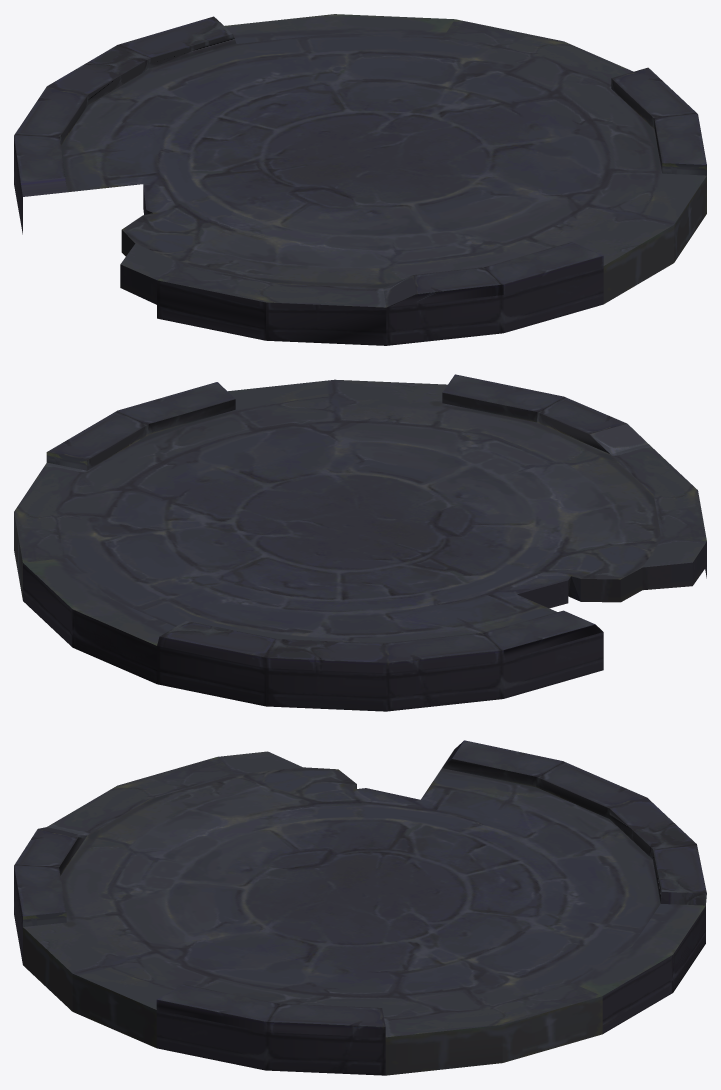
File: yw_ziyuanpingtai_yuantai_002.FBX
3 views of the same model, one above another, from view 1: azimuth 30°, elevation 25°; view 2: azimuth 150°, elevation 25°; view 3: azimuth 270°, elevation 25° (orthographic).
Visible parts, largest first — view 1: yw_ziyuanpingtai_yuantai_002; view 2: yw_ziyuanpingtai_yuantai_002; view 3: yw_ziyuanpingtai_yuantai_002.
Boxes of the visible parts, left/top/right/bottom form: yw_ziyuanpingtai_yuantai_002: left=14, top=14, right=706, bottom=345; yw_ziyuanpingtai_yuantai_002: left=14, top=374, right=706, bottom=711; yw_ziyuanpingtai_yuantai_002: left=14, top=740, right=706, bottom=1075.
Bounding box in the file's own units: 2640 × 208 × 2685.
